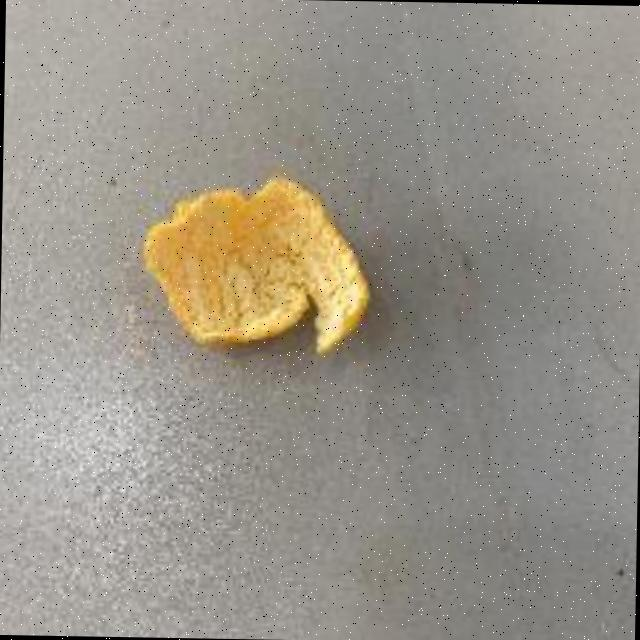orange-peel: (138, 172, 373, 356)
